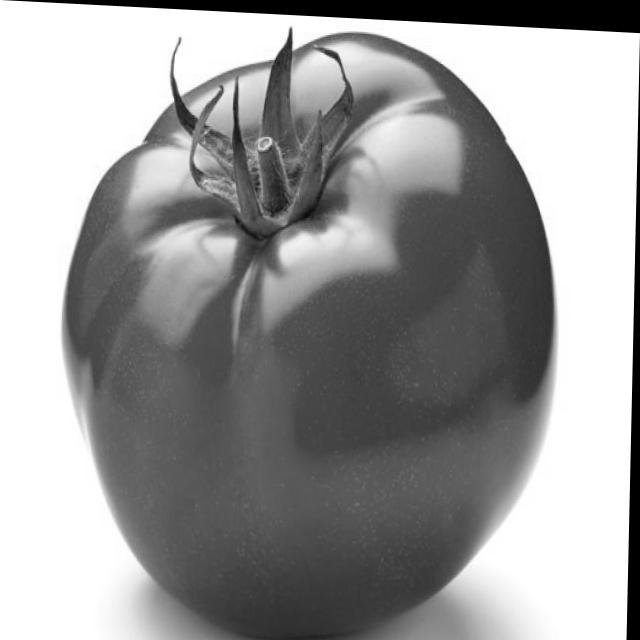kirmizi: (79, 32, 558, 640)
